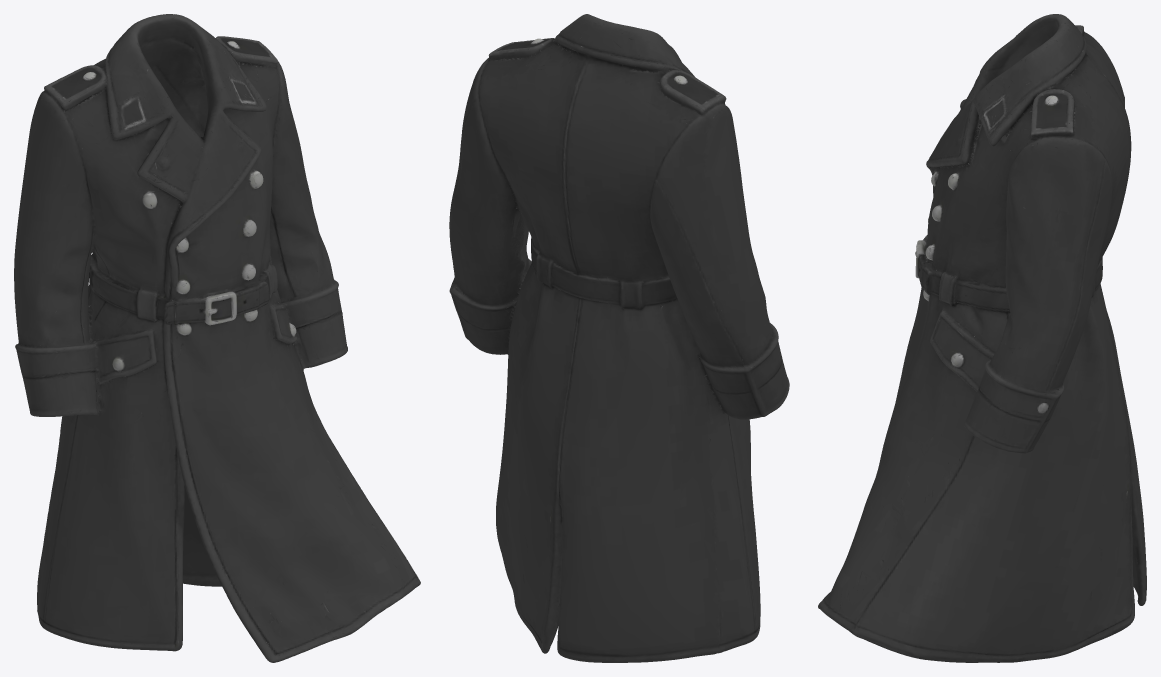
Rendered from midnight-command.glb.
3 renders of one model, left to right at view 1: azimuth 30°, elevation 25°; view 2: azimuth 150°, elevation 25°; view 3: azimuth 270°, elevation 25°, orthographic. The views are drawn at different scales.
Parts seen in each view (by area): view 1: Mesh1.0; view 2: Mesh1.0; view 3: Mesh1.0.
Part boxes in pixels (box(x1,y1,x2,y2)): Mesh1.0: box(14, 14, 420, 662); Mesh1.0: box(449, 14, 789, 662); Mesh1.0: box(818, 14, 1146, 662).
Bounding box in the file's own units: 1.08 × 1.91 × 0.9587.
1 material, 1 textured.
